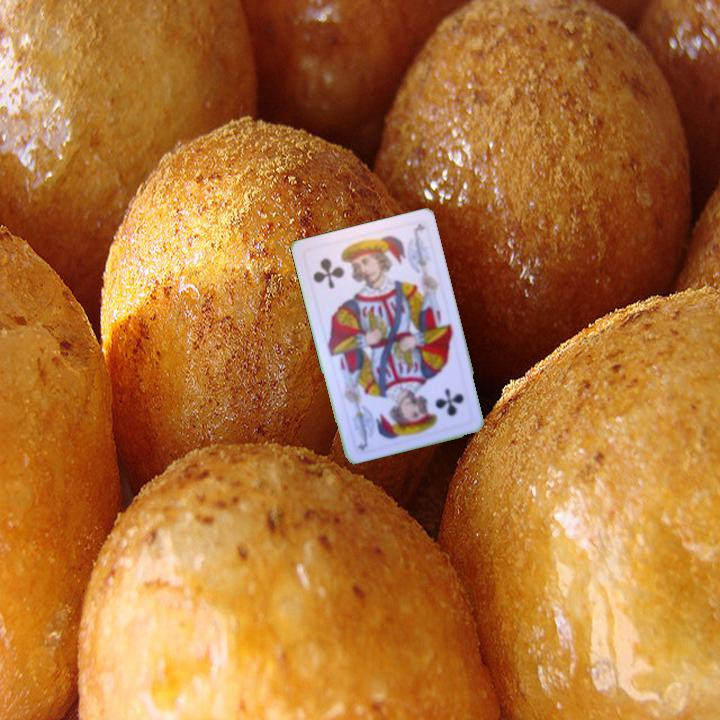c_j.png: (398, 367, 476, 439), (301, 233, 379, 305)
